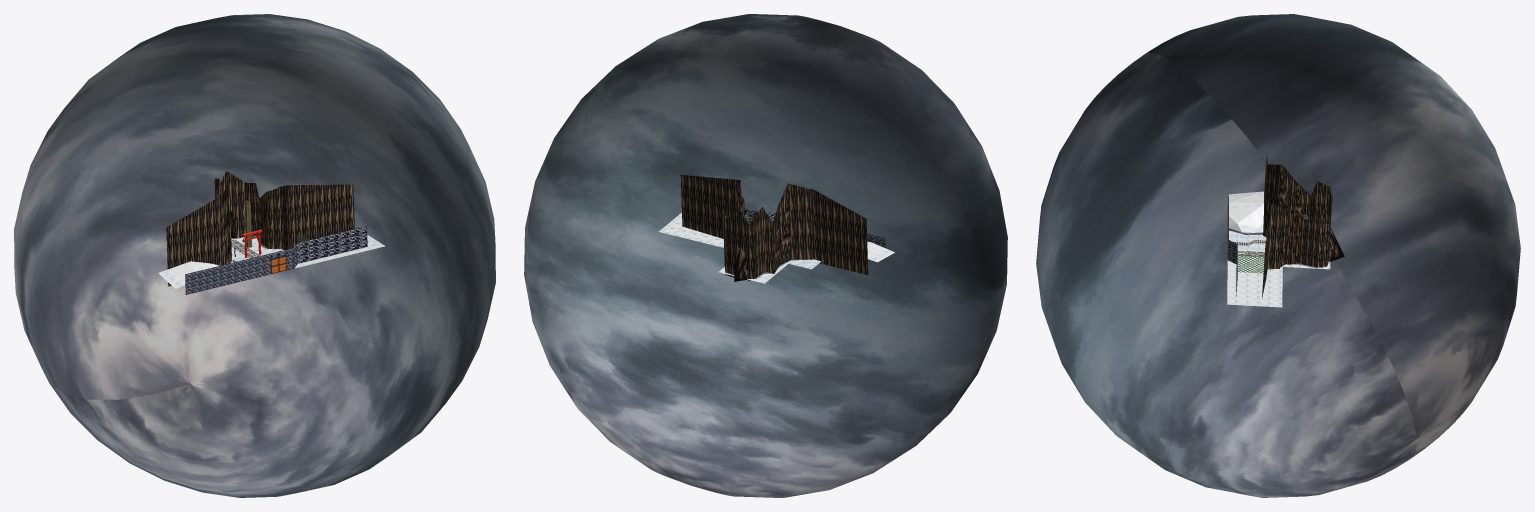
The model's file is SnowyShrine.glb.
3 renders of one model, left to right at view 1: azimuth 30°, elevation 25°; view 2: azimuth 150°, elevation 25°; view 3: azimuth 270°, elevation 25°, orthographic.
Parts seen in each view (by area): view 1: Sphere, 197_3D5FBF54_c.bmp, 011_3B095CF2_c.bmp, 014_24CEFEF5_c.bmp, 018_3D5FBF54_c.bmp, 194_3D5FBF54_c.bmp.001, 195_3D5FBF54_c.bmp, 002_14218185_c.bmp, 194_3D5FBF54_c.bmp.002, 209_27DD1D10_c.bmp; view 2: Sphere, 197_3D5FBF54_c.bmp, 195_3D5FBF54_c.bmp, 018_3D5FBF54_c.bmp, 002_14218185_c.bmp, 196_3D5FBF54_c.bmp, 194_3D5FBF54_c.bmp; view 3: Sphere, 002_14218185_c.bmp, 197_3D5FBF54_c.bmp, 194_3D5FBF54_c.bmp.002, 195_3D5FBF54_c.bmp, 194_3D5FBF54_c.bmp, 198_7107A315_c.bmp, 196_3D5FBF54_c.bmp, 007_4DFD8D33_c.bmp, 208_4BE0E3A2_c.bmp.
Boxes of the visible parts, bbox=[...] form: Sphere: bbox=[14, 14, 495, 497]; 197_3D5FBF54_c.bmp: bbox=[166, 178, 354, 286]; 011_3B095CF2_c.bmp: bbox=[185, 253, 271, 294]; 014_24CEFEF5_c.bmp: bbox=[297, 226, 367, 263]; 018_3D5FBF54_c.bmp: bbox=[219, 171, 245, 238]; 194_3D5FBF54_c.bmp.001: bbox=[266, 187, 281, 248]; 195_3D5FBF54_c.bmp: bbox=[220, 182, 231, 264]; 002_14218185_c.bmp: bbox=[231, 235, 385, 268]; 194_3D5FBF54_c.bmp.002: bbox=[278, 185, 289, 249]; 209_27DD1D10_c.bmp: bbox=[158, 261, 196, 288]; Sphere: bbox=[524, 14, 1007, 497]; 197_3D5FBF54_c.bmp: bbox=[680, 175, 868, 276]; 195_3D5FBF54_c.bmp: bbox=[788, 183, 813, 259]; 018_3D5FBF54_c.bmp: bbox=[723, 211, 756, 280]; 002_14218185_c.bmp: bbox=[659, 212, 788, 283]; 196_3D5FBF54_c.bmp: bbox=[778, 183, 790, 264]; 194_3D5FBF54_c.bmp: bbox=[723, 207, 774, 273]; Sphere: bbox=[1036, 14, 1520, 497]; 002_14218185_c.bmp: bbox=[1227, 256, 1282, 307]; 197_3D5FBF54_c.bmp: bbox=[1262, 155, 1329, 298]; 194_3D5FBF54_c.bmp.002: bbox=[1267, 204, 1283, 269]; 195_3D5FBF54_c.bmp: bbox=[1263, 164, 1281, 236]; 194_3D5FBF54_c.bmp: bbox=[1310, 181, 1330, 267]; 198_7107A315_c.bmp: bbox=[1285, 208, 1301, 264]; 196_3D5FBF54_c.bmp: bbox=[1279, 164, 1297, 212]; 007_4DFD8D33_c.bmp: bbox=[1229, 230, 1266, 251]; 208_4BE0E3A2_c.bmp: bbox=[1229, 202, 1263, 232].
Size of what is drawn, in the model's own units: 206 by 206 by 206.
108 materials, 108 textured.
